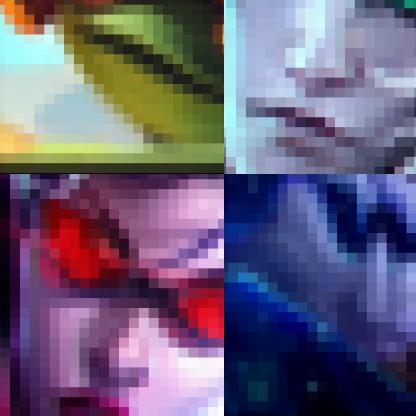Aurelion Sol: (224, 174, 415, 415)
Rammus: (0, 0, 223, 173)
Vayne: (0, 174, 223, 415)
Viego: (224, 0, 415, 173)
